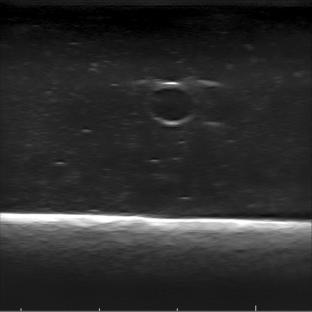vessel: (144, 80, 198, 128)
